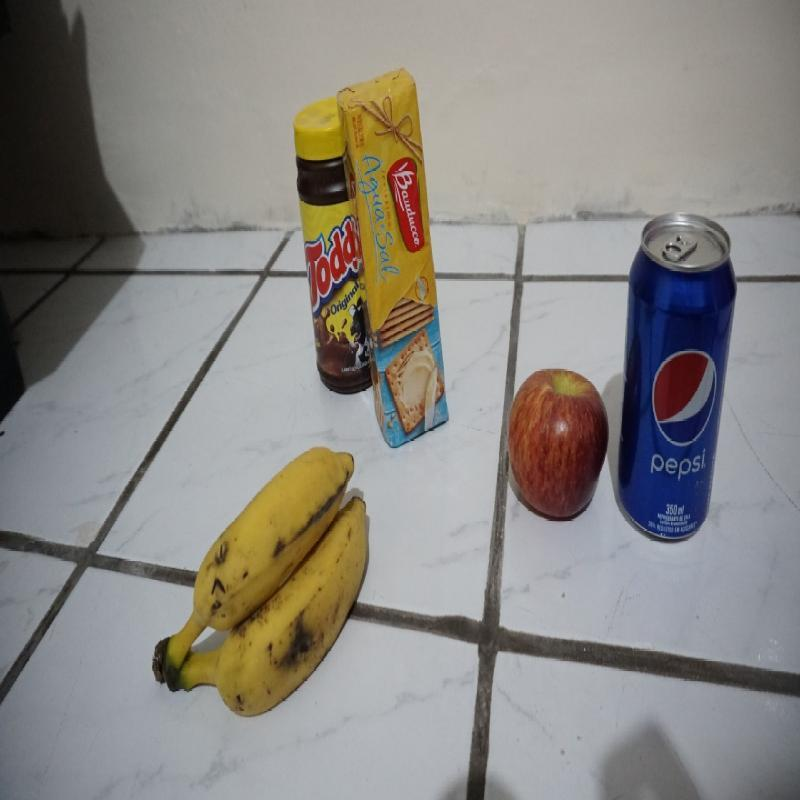Apple: (506, 367, 608, 522)
Banana: (151, 445, 369, 718)
Chocolate Powder: (293, 96, 376, 397)
Cracker: (336, 66, 450, 450)
Soda can: (616, 211, 736, 544)
